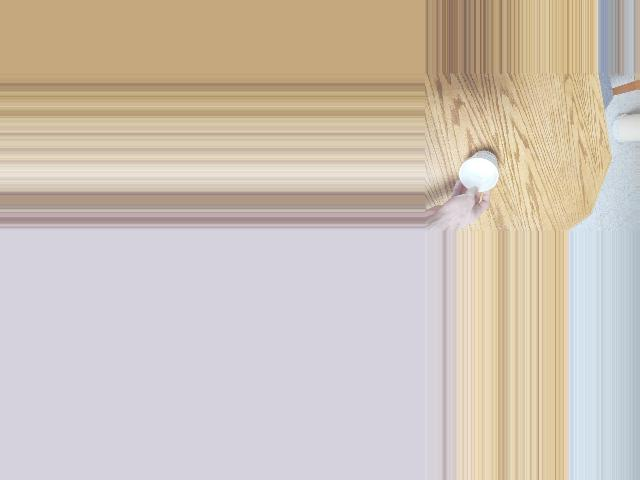cotage: (456, 157, 498, 195)
